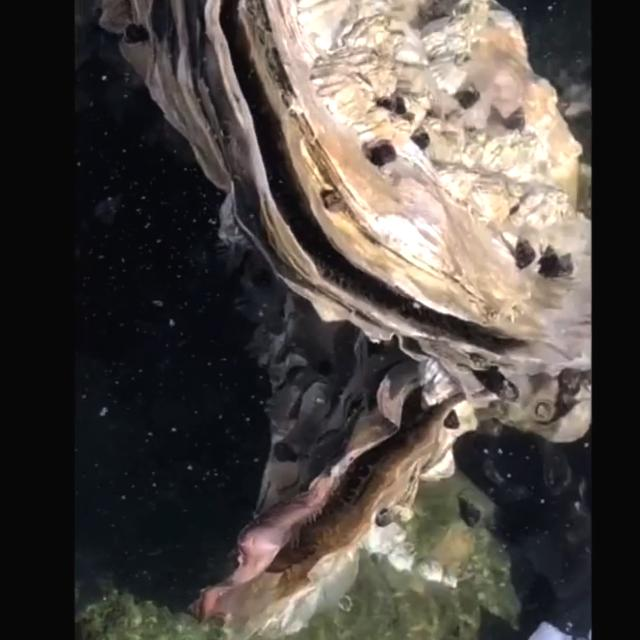Oyster-Open: (97, 0, 596, 392), (188, 280, 487, 640)
